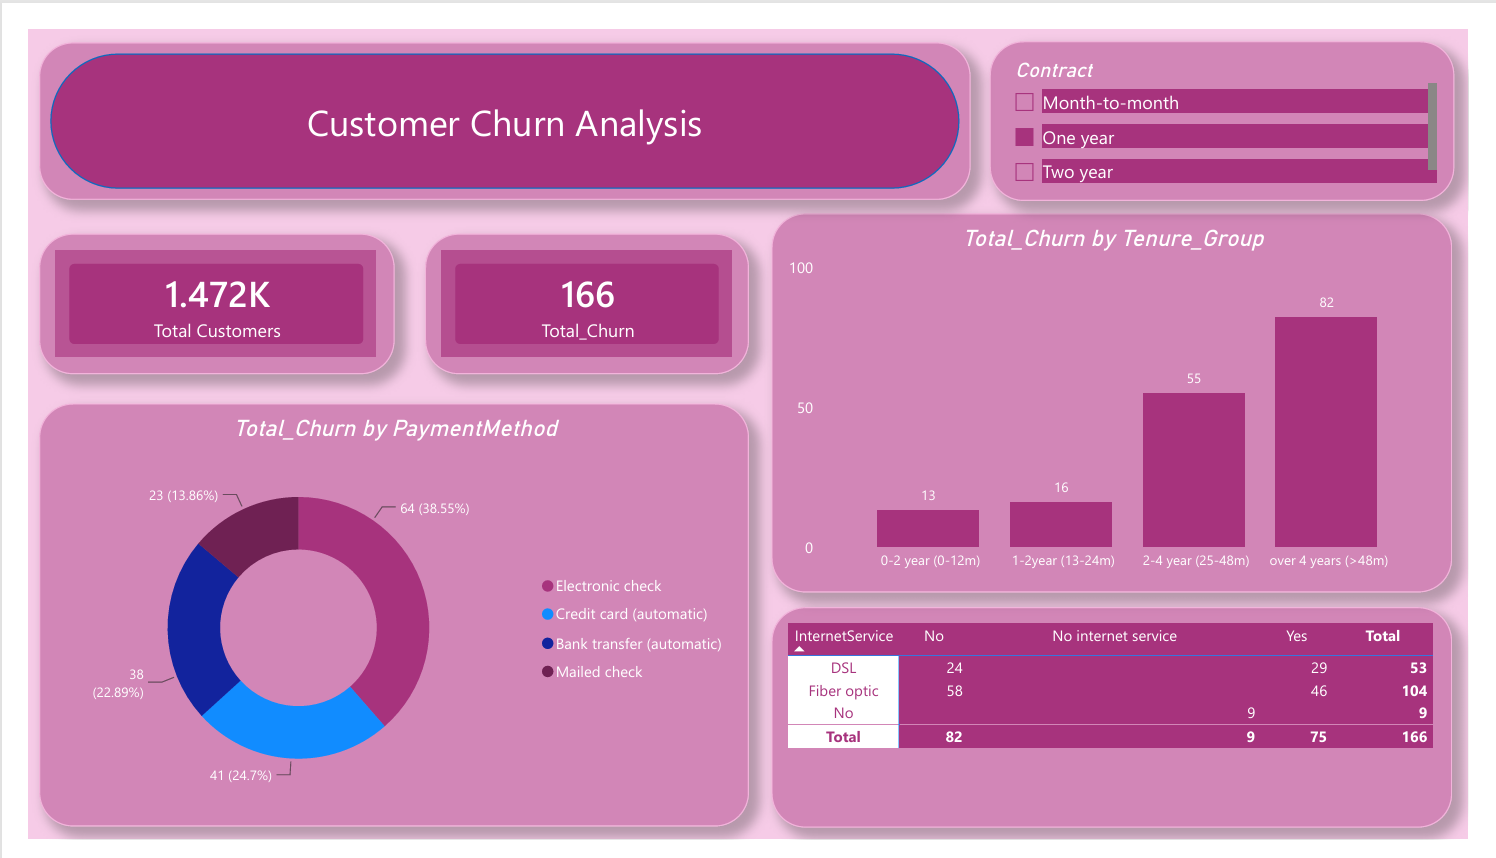

The page's visual inventory and layout, read from the dashboard file:
{"tool":"powerbi","page":{"name":"Page 1","canvas":[1280,720],"ordinal":0},"visuals":[{"type":"cardVisual","fields":{"Data":["Count(customer_churn_db telco-customer-churn.customerID)"]},"box":[9.4,180.6,315.4,125.3],"z":0},{"type":"cardVisual","fields":{"Data":["customer_churn_db telco-customer-churn.Total_Churn"]},"box":[351.7,180.6,288.4,125.3],"z":1000},{"type":"clusteredColumnChart","fields":{"Category":["customer_churn_db telco-customer-churn.Tenure_Group"],"Y":["customer_churn_db telco-customer-churn.Total_Churn"]},"box":[660.4,163.1,605.1,336.9],"z":2000},{"type":"donutChart","fields":{"Category":["customer_churn_db telco-customer-churn.PaymentMethod"],"Y":["customer_churn_db telco-customer-churn.Total_Churn"]},"box":[9.4,331.5,630.7,376],"z":3000},{"type":"slicer","fields":{"Values":["customer_churn_db telco-customer-churn.Contract"]},"box":[854,10.2,412.5,141.5],"z":4000},{"type":"pivotTable","fields":{"Rows":["customer_churn_db telco-customer-churn.InternetService"],"Columns":["customer_churn_db telco-customer-churn.TechSupport"],"Values":["customer_churn_db telco-customer-churn.Total_Churn"]},"box":[660.4,513.5,605.1,195.4],"z":5000},{"type":"shape","box":[9.4,10.8,827.5,140.2],"z":6000}]}

Visuals, with their boxes in screenshot pixels (x1, y1, x2, y2), scaled from the page's 1280x720 canvas onto the 1496x858 screenshot:
cardVisual - Count(customer_churn_db telco-customer-churn.customerID): BBox(11, 215, 380, 365)
cardVisual - customer_churn_db telco-customer-churn.Total_Churn: BBox(411, 215, 748, 365)
clusteredColumnChart - customer_churn_db telco-customer-churn.Tenure_Group x customer_churn_db telco-customer-churn.Total_Churn: BBox(772, 194, 1479, 596)
donutChart - customer_churn_db telco-customer-churn.PaymentMethod x customer_churn_db telco-customer-churn.Total_Churn: BBox(11, 395, 748, 843)
slicer - customer_churn_db telco-customer-churn.Contract: BBox(998, 12, 1480, 181)
pivotTable - customer_churn_db telco-customer-churn.InternetService x customer_churn_db telco-customer-churn.TechSupport: BBox(772, 612, 1479, 845)
shape: BBox(11, 13, 978, 180)
